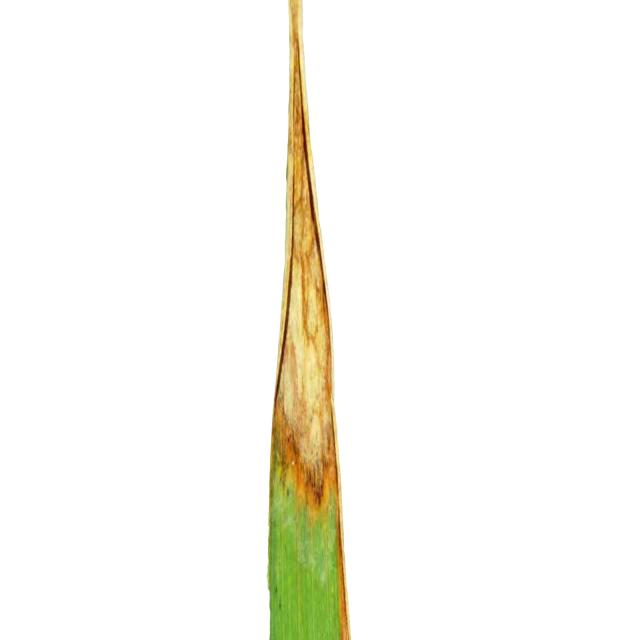Leaf scald: (168, 0, 474, 640)
